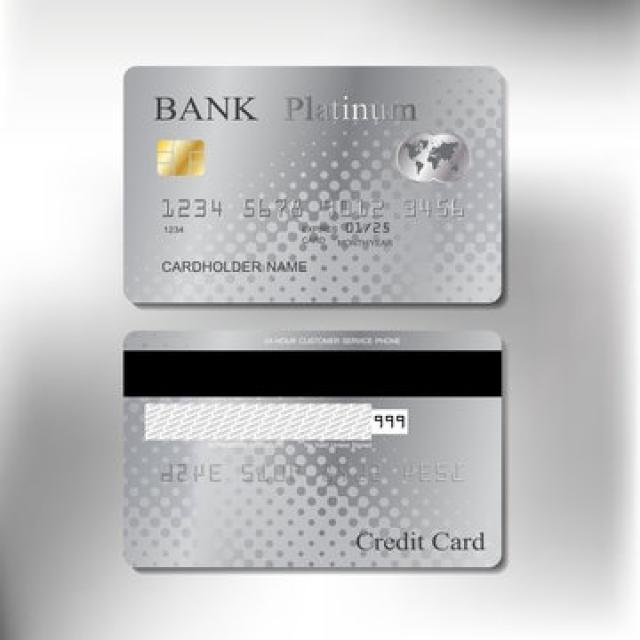payment_card: (121, 328, 505, 571), (122, 64, 507, 306)
